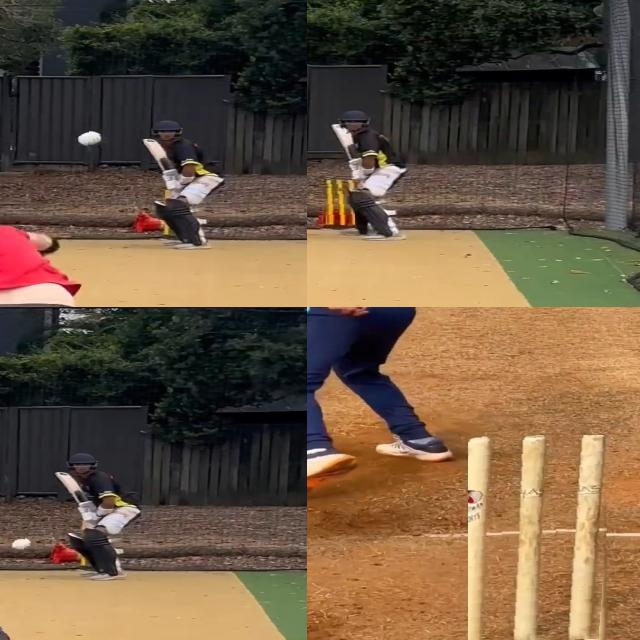Cricket ball: (75, 129, 106, 149), (11, 536, 35, 551)
Stumps: (467, 435, 614, 640), (324, 178, 356, 231)
